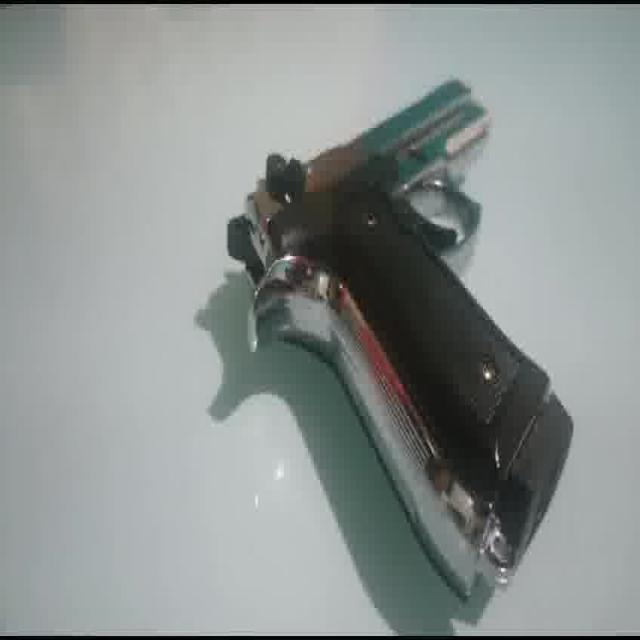weapon: (226, 75, 574, 601)
